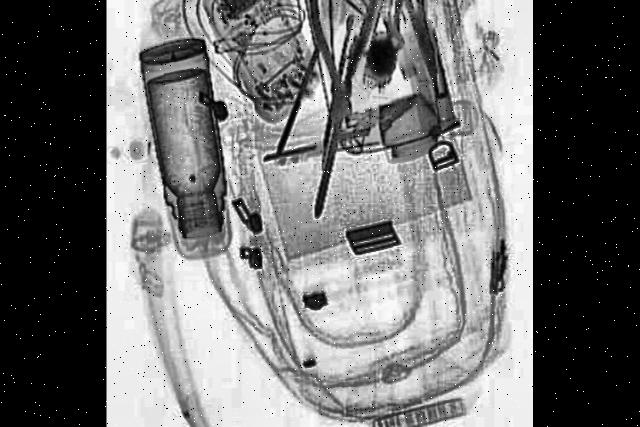Pliers: (304, 0, 382, 141), (394, 0, 451, 99)
